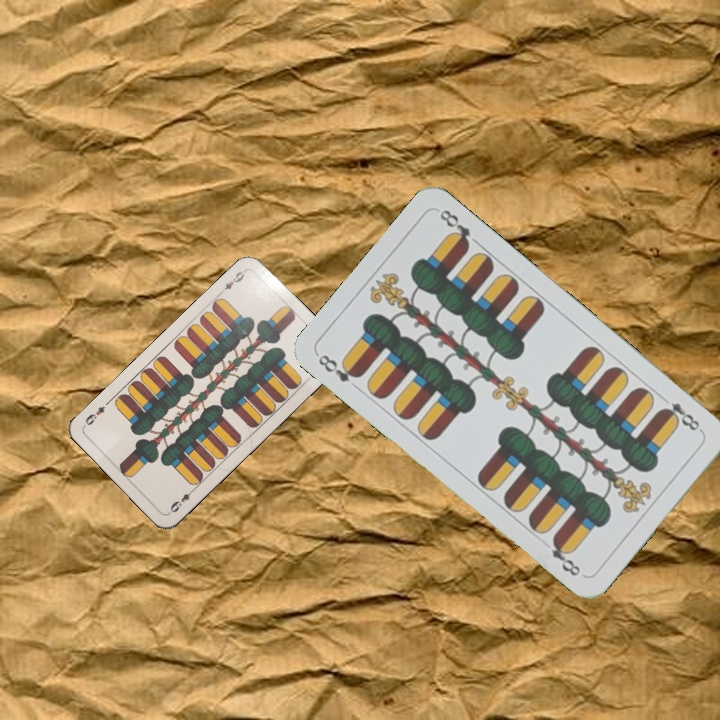E8: (656, 391, 705, 435), (314, 350, 365, 385)
E9: (165, 484, 198, 516), (216, 265, 249, 297)
